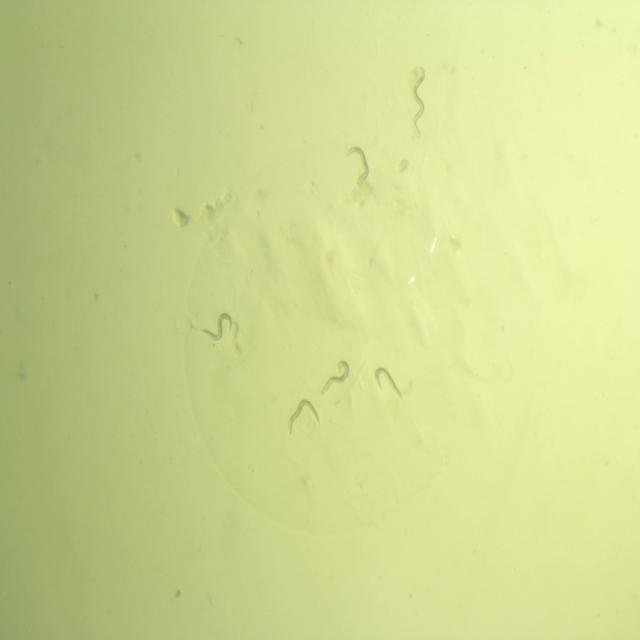worm: (315, 358, 351, 400), (287, 396, 321, 438), (372, 363, 404, 403), (409, 64, 427, 134), (198, 309, 234, 342), (344, 144, 372, 186)
